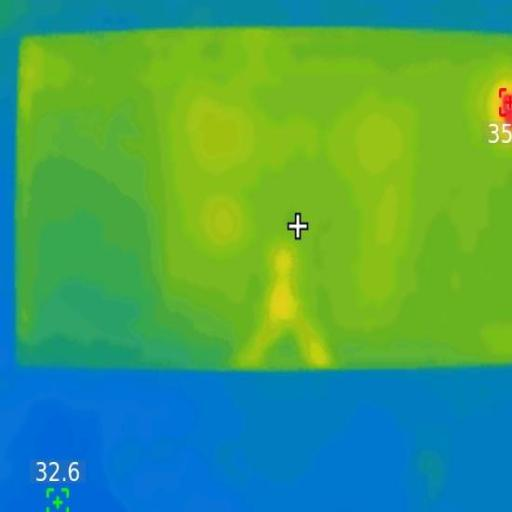hotspot: (502, 92, 512, 122)
